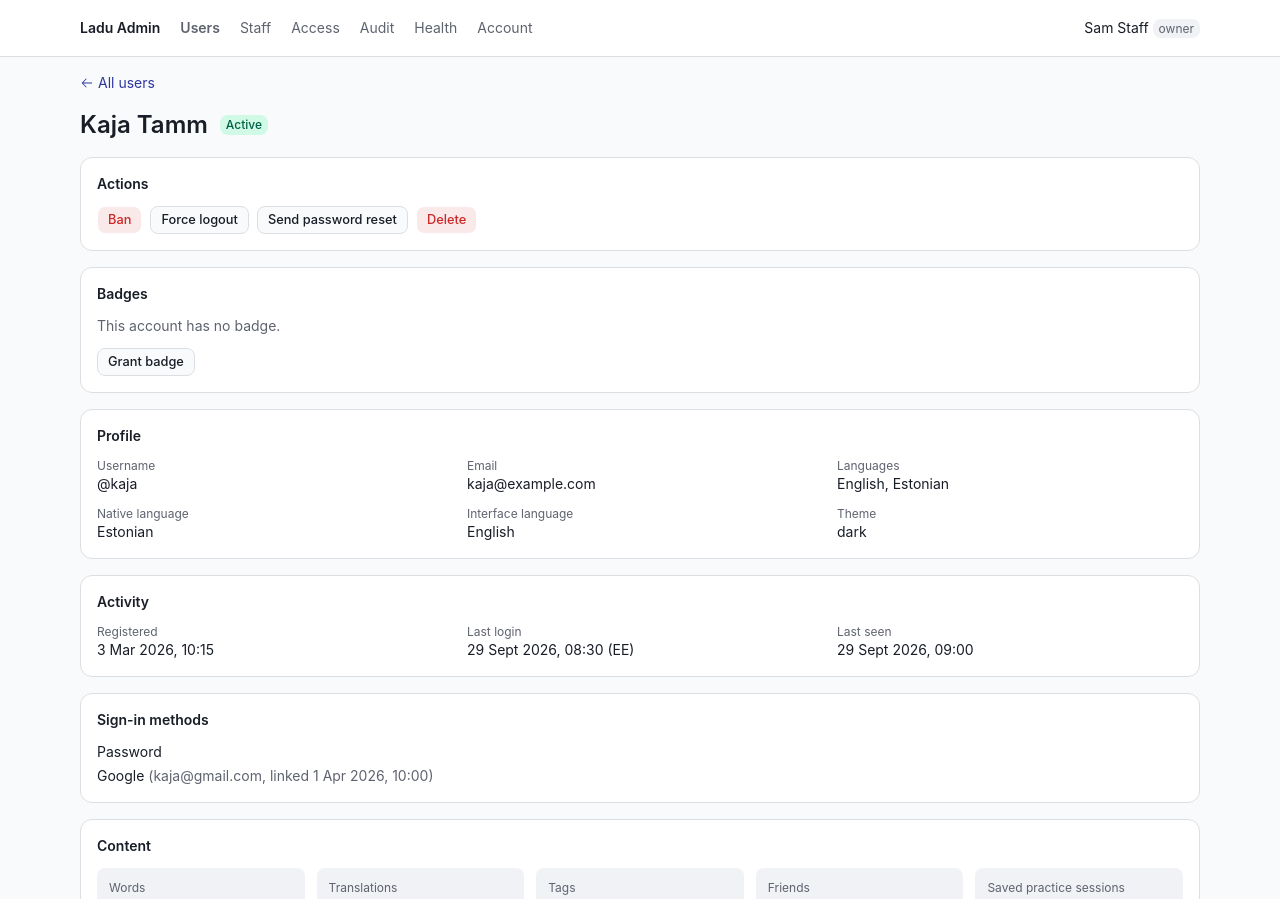
Scenario: grant › shows the server error in the dialog and keeps it open
This screenshot has width=1280, height=899.
Expected: the heading "Kaja Tamm" is shown, [80,109,208,141]
Click the button "Grant badge" at (146, 362), box [97,348,195,376]
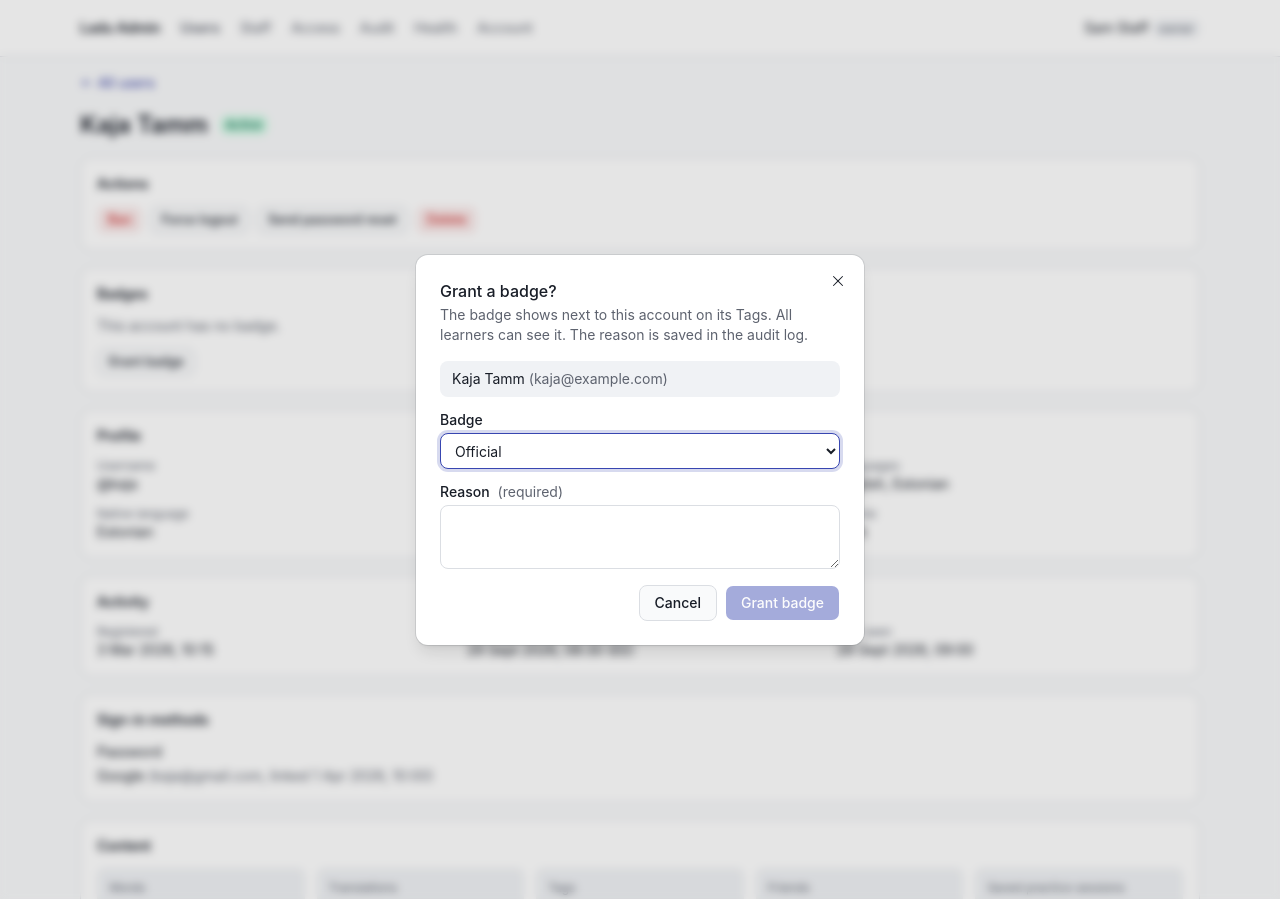
Type "again" into the text box labelled "Reason (required)" at (640, 537), box [440,505,840,569]
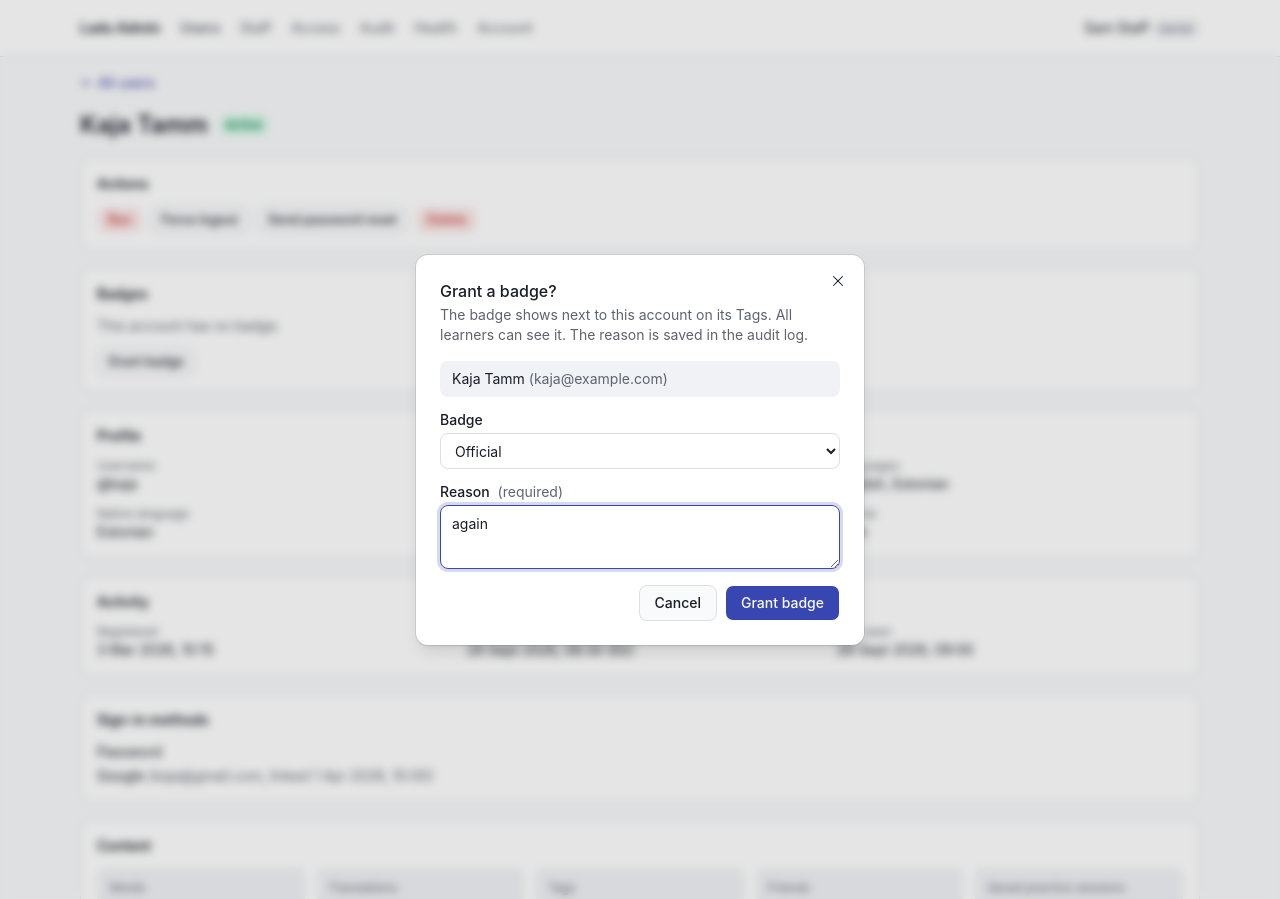
Click the button "Grant badge" at (782, 603), box [725,585,840,621]
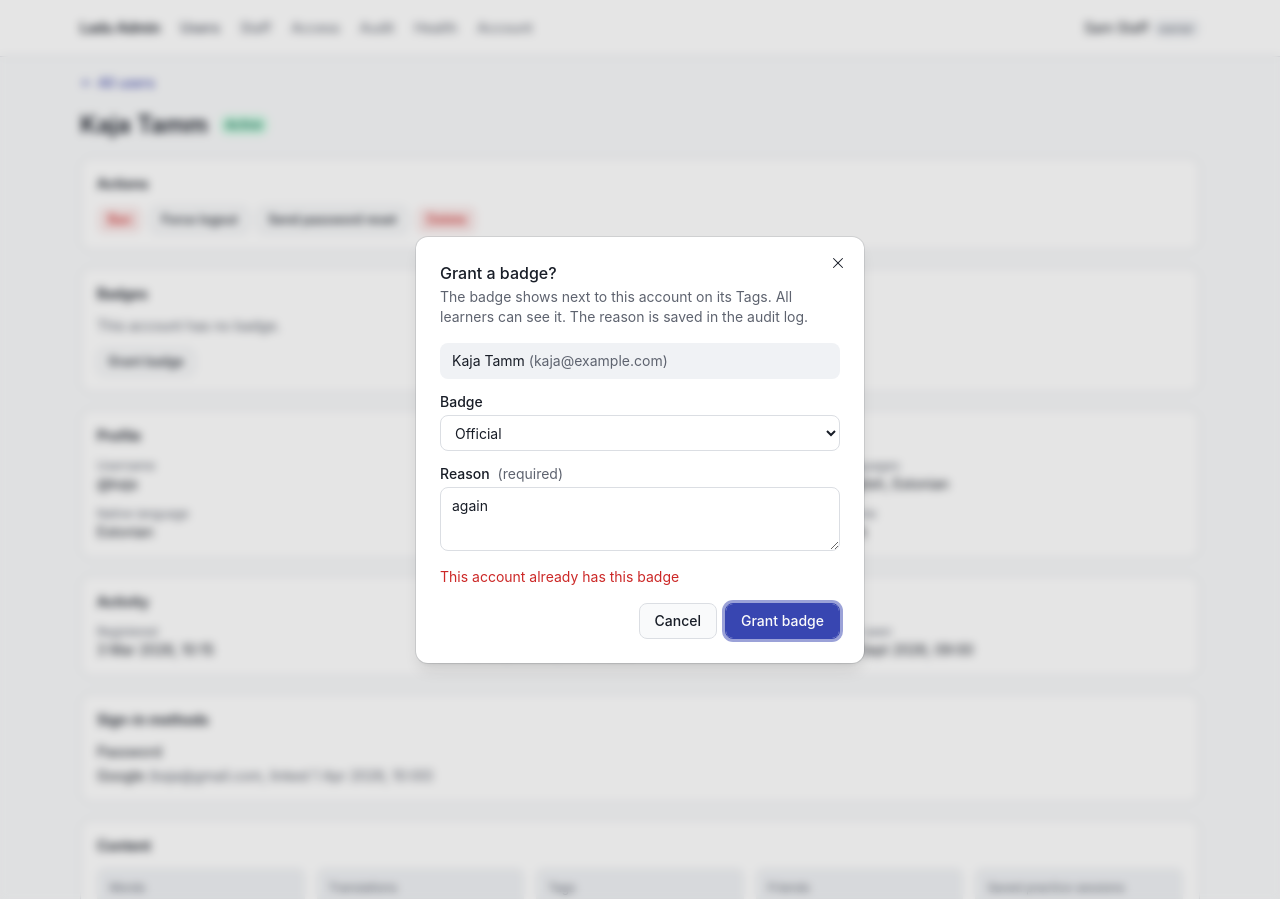
Now the dialog is shown, box [416,237,864,663]
Now the message reads "This account already has this badge", box [440,568,679,585]
